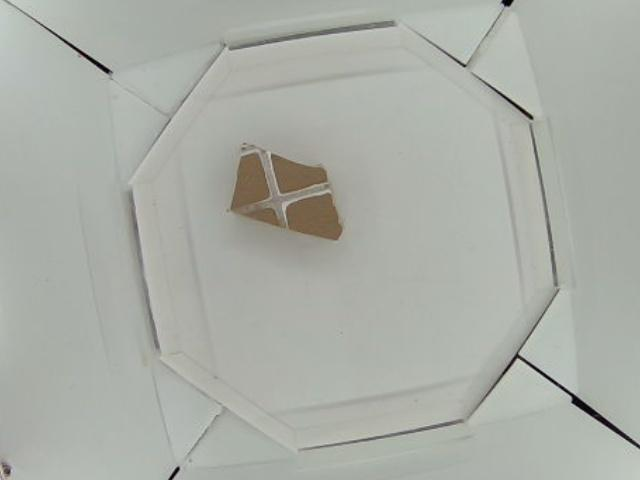China: (229, 140, 345, 242)
